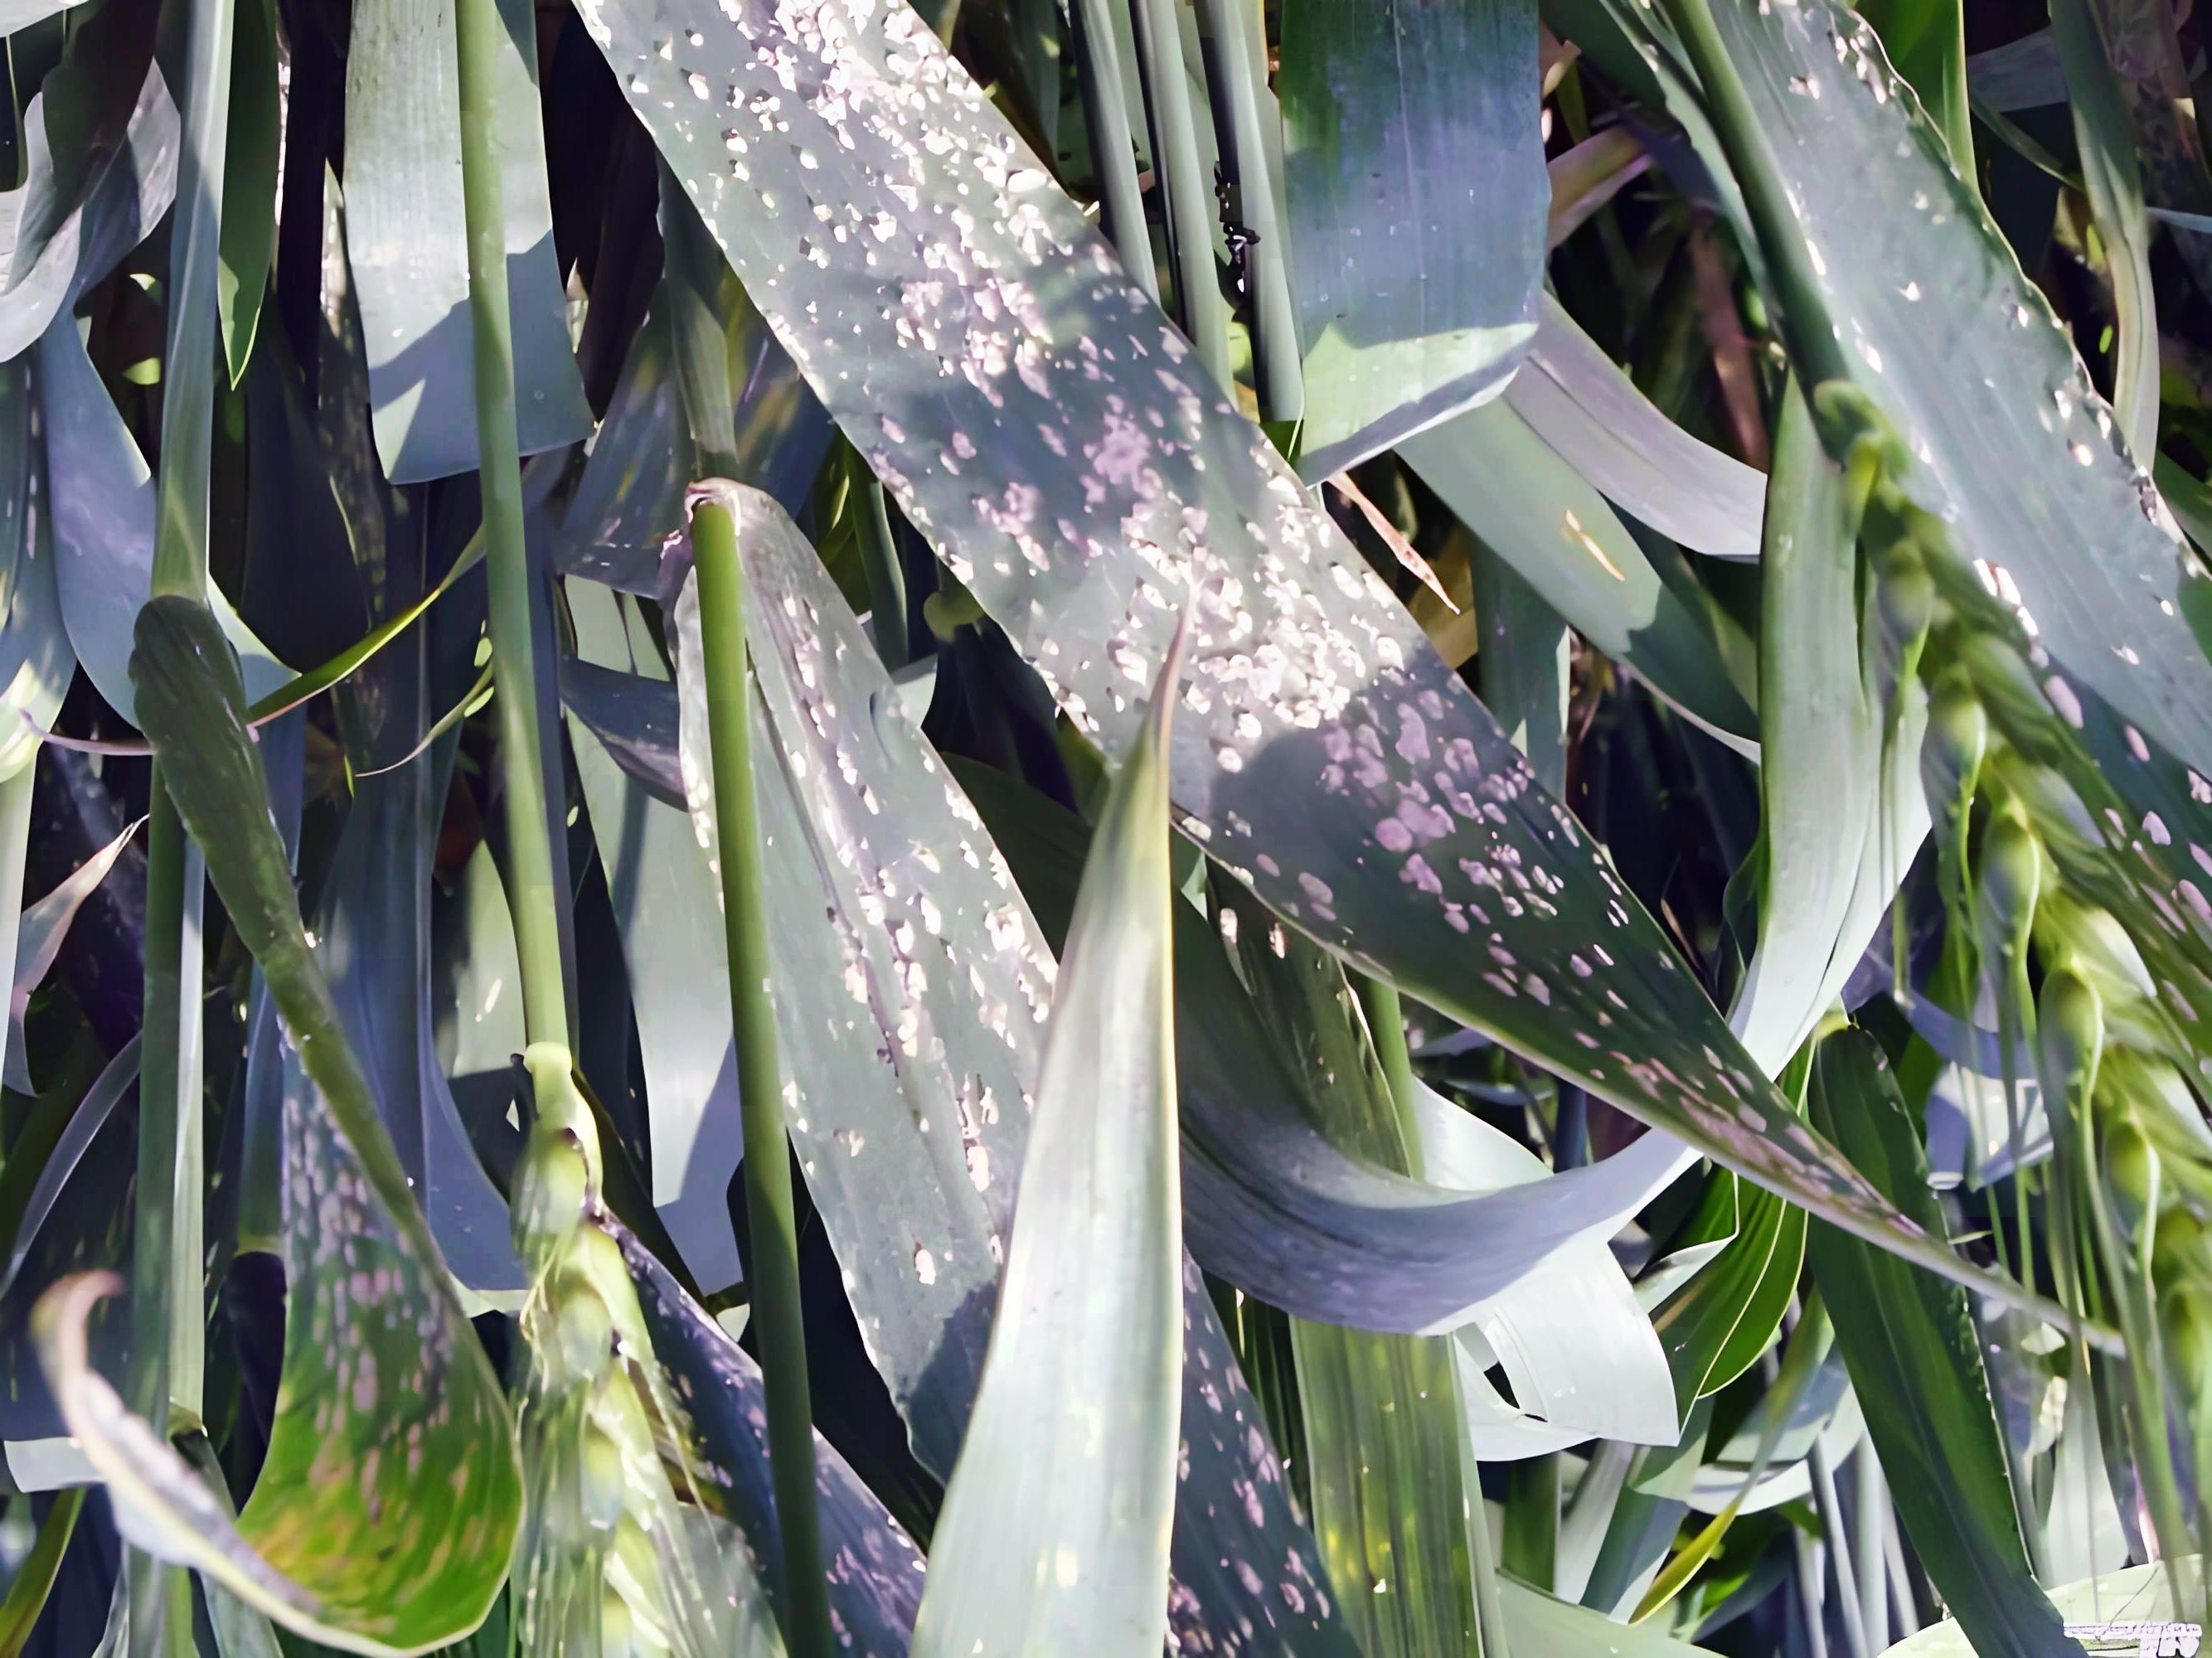Powdery Mildew: (730, 21, 1705, 1108)
